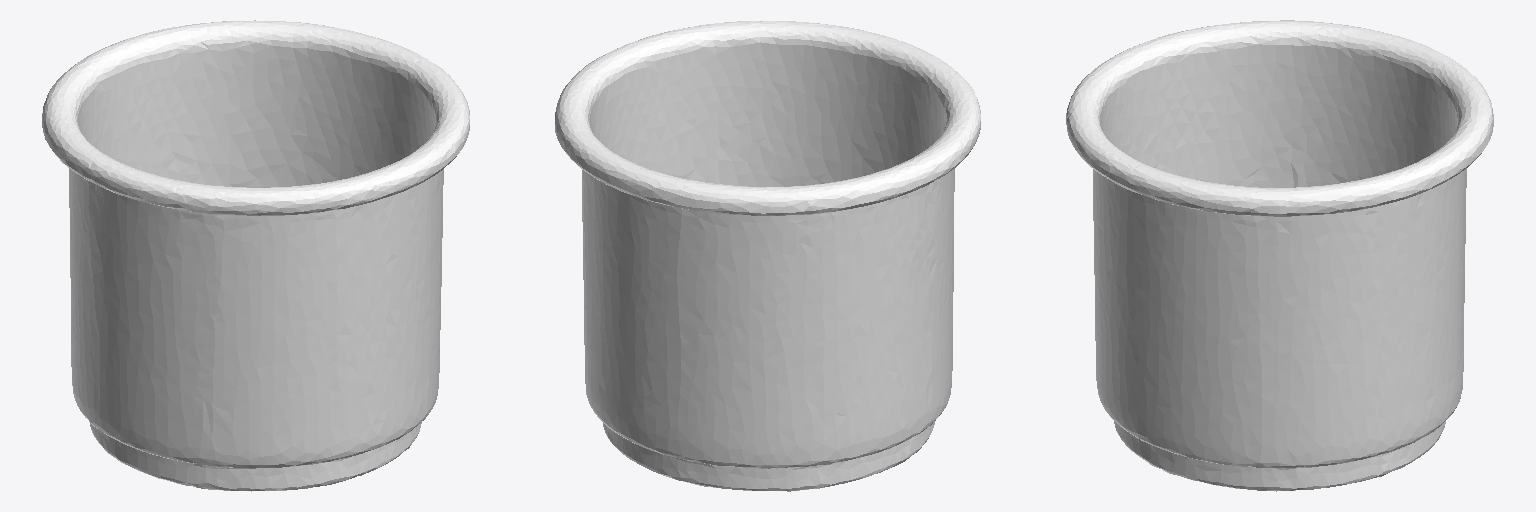
The robot description file, URDF, robot "040_large_marker":
<robot name="040_large_marker">
	<link name="_name">
		<visual>
			<origin xyz="0.35725124851893997 0.07880770743269519 -0.09018296996191044" rpy="0 0 0" />
			<geometry>
				<mesh filename="040_large_marker/google_16k/textured.obj" scale="10 10 10" />
			</geometry>
			<material name="texture">
				<color rgba="1.0 1.0 1.0 1.0" />
			</material>
		</visual>
		<collision>
			<geometry>
				<mesh filename="040_large_marker/google_16k/textured_vhacd.obj" scale="10 10 10" />
			</geometry>
		<origin xyz="0.35725124851893997 0.07880770743269519 -0.09018296996191044" rpy="0 0 0" /></collision>
		<inertial>
			<mass value="1.0" />
			<inertia ixx="1.0" ixy="0.0" ixz="0.0" iyy="1.0" iyz="0.0" izz="1.0" />
		</inertial>
	</link>
</robot>

--- Render facts (derived) ---
3 views of the same robot in one strip: view 1: azimuth 30°, elevation 25°; view 2: azimuth 150°, elevation 25°; view 3: azimuth 270°, elevation 25° (orthographic).
Robot: 040_large_marker — 1 links, 0 joints (none); root link _name; default pose: every joint at zero.
Links seen in each view (by area): view 1: _name; view 2: _name; view 3: _name.
Link boxes in pixels (x1=…): _name: x1=42, y1=20, x2=469, y2=491; _name: x1=555, y1=20, x2=980, y2=491; _name: x1=1066, y1=20, x2=1493, y2=491.
Size in the robot's own frame: 0.915 by 0.9162 by 0.7506 metres.
1 mesh visuals loaded from 1 distinct referenced files (1 OBJ).